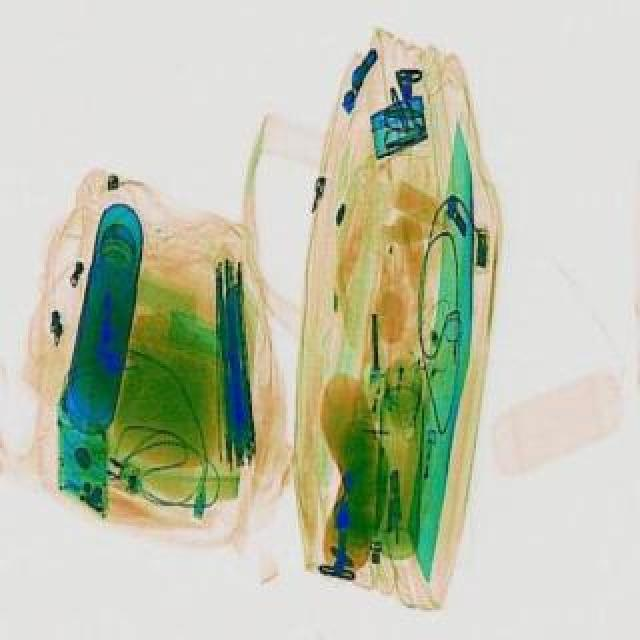knife: (402, 118, 494, 578)
